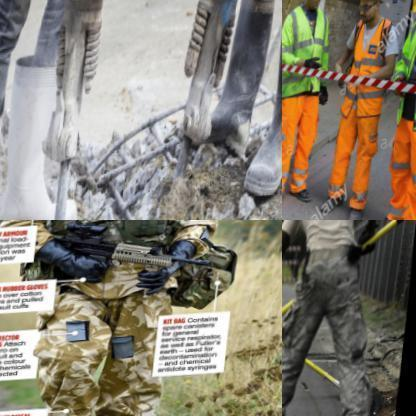vest: (55, 220, 188, 275), (282, 0, 338, 101), (348, 17, 395, 99), (391, 17, 415, 135)
